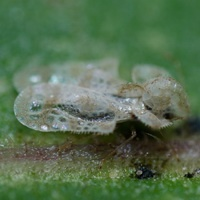insect: (14, 59, 188, 133)
